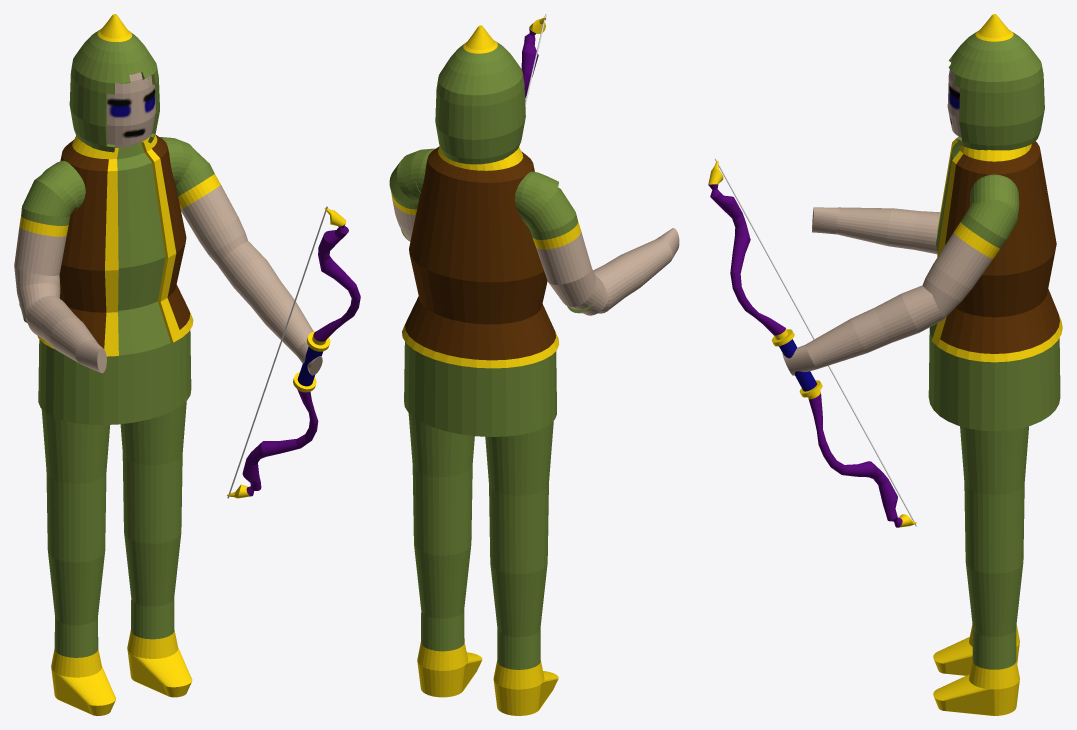
File: Лучник3.fbx
3 views of the same model, side by side, from view 1: azimuth 30°, elevation 25°; view 2: azimuth 150°, elevation 25°; view 3: azimuth 270°, elevation 25° (orthographic).
Parts seen in each view (by area): view 1: Цилиндр.176, Цилиндр.166, Цилиндр.170, Цилиндр.168, Цилиндр.171, Цилиндр.169, Цилиндр.167, Цилиндр.174, Цилиндр.173, Цилиндр.046, Цилиндр.172, Цилиндр.175 (+3 smaller); view 2: Цилиндр.166, Цилиндр.176, Цилиндр.167, Цилиндр.170, Цилиндр.169, Цилиндр.168, Цилиндр.171, Цилиндр.174, Цилиндр.175, Цилиндр.172, Цилиндр.178, Цилиндр.177 (+1 smaller); view 3: Цилиндр.166, Цилиндр.176, Цилиндр.167, Цилиндр.169, Цилиндр.168, Цилиндр.173, Цилиндр.172, Цилиндр.046, Цилиндр.175, Цилиндр.171, Цилиндр.178, Цилиндр.047.
Boxes of the visible parts, x1,y1,x2,y2 form: Цилиндр.176: (38,72,191,425); Цилиндр.166: (37,134,193,356); Цилиндр.170: (41,409,109,562); Цилиндр.168: (124,533,192,697); Цилиндр.171: (48,552,115,715); Цилиндр.169: (120,401,186,543); Цилиндр.167: (69,14,159,152); Цилиндр.174: (14,175,76,322); Цилиндр.173: (218,241,322,375); Цилиндр.046: (227,207,360,498); Цилиндр.172: (176,148,247,265); Цилиндр.175: (19,295,106,373); Цилиндр.166: (402,146,559,368); Цилиндр.176: (404,342,556,436); Цилиндр.167: (435,25,525,164); Цилиндр.170: (485,421,553,574); Цилиндр.169: (408,413,474,555); Цилиндр.168: (414,545,482,697); Цилиндр.171: (490,564,558,715); Цилиндр.174: (514,187,608,315); Цилиндр.175: (567,228,679,313); Цилиндр.172: (389,159,420,241); Цилиндр.178: (400,148,435,198); Цилиндр.177: (515,171,558,202); Цилиндр.166: (931,136,1062,362); Цилиндр.176: (928,60,1060,431); Цилиндр.167: (948,14,1044,150); Цилиндр.169: (960,426,1028,573); Цилиндр.168: (933,562,1023,715); Цилиндр.173: (782,285,944,375); Цилиндр.172: (922,199,1019,321); Цилиндр.046: (708,161,916,527); Цилиндр.175: (812,207,940,254); Цилиндр.171: (933,624,1019,675); Цилиндр.178: (970,174,1018,214); Цилиндр.047: (714,158,916,526).
Bounding box in the file's own units: 42.7 × 117 × 55.73.
